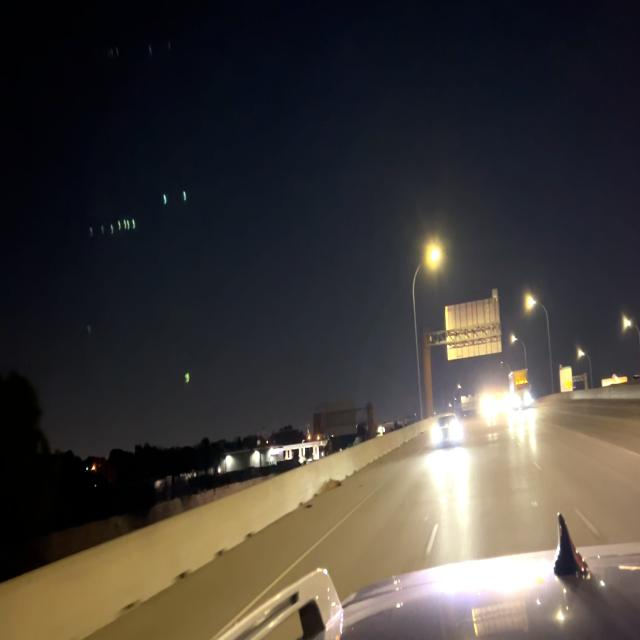back-of-sign: (444, 287, 502, 365), (313, 397, 358, 438)
